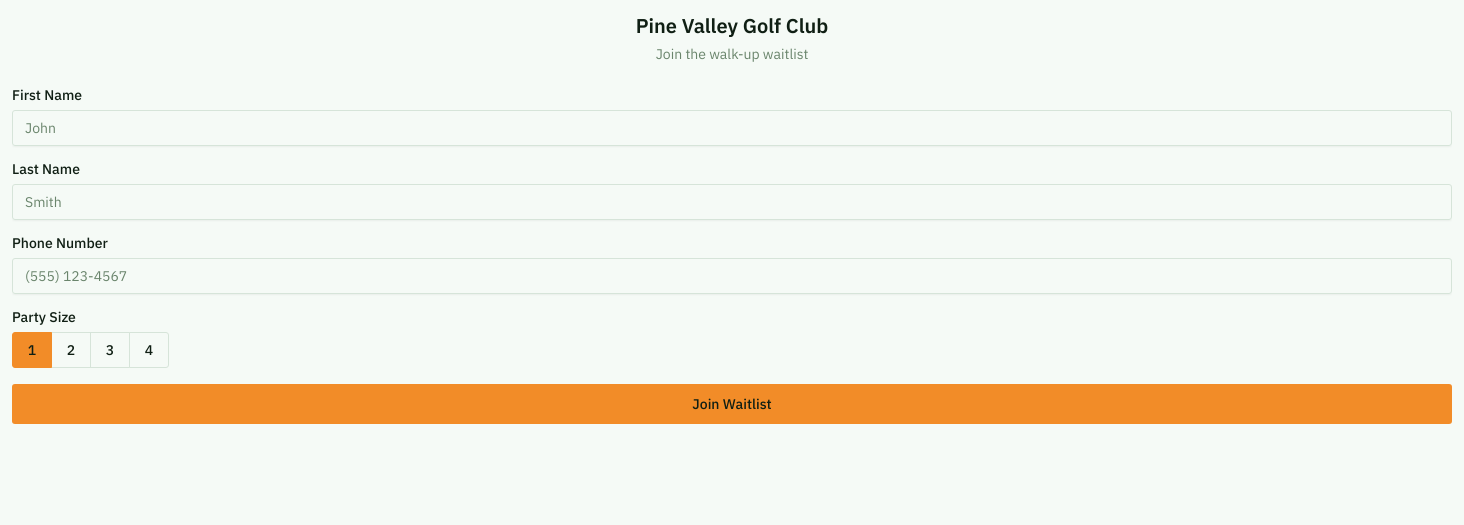
Test: JoinForm › shows validation error for empty first name
Step 1. Click the button "Join Waitlist" → [732, 404], box left=12, top=384, right=1452, bottom=424
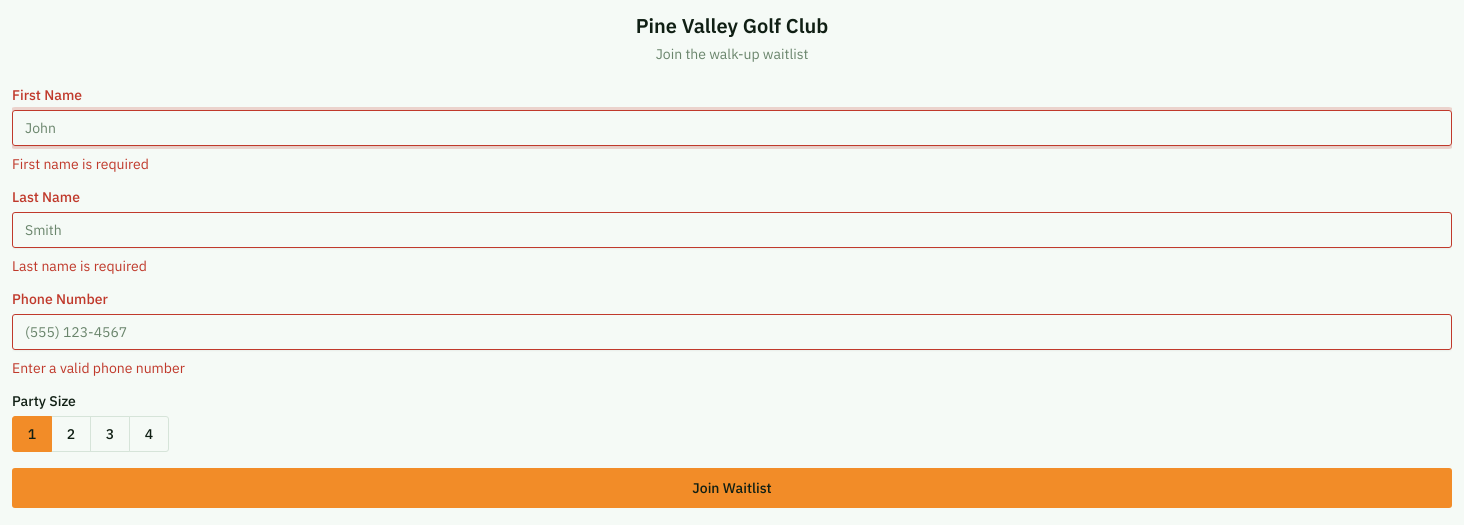
Result: the text "First name is required" is shown at left=12, top=155, right=149, bottom=173
